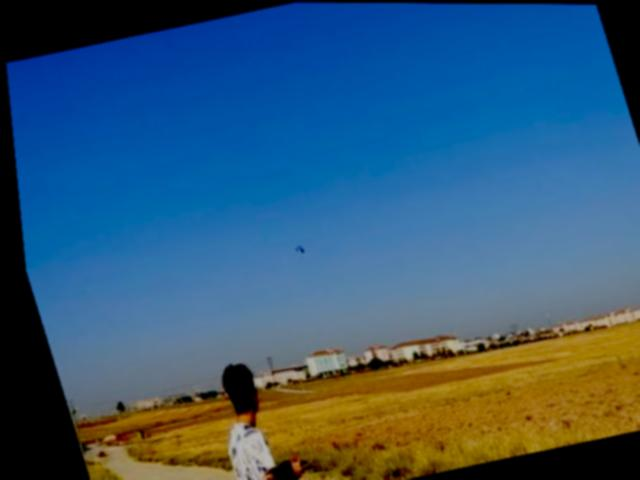uav: (285, 238, 302, 260)
